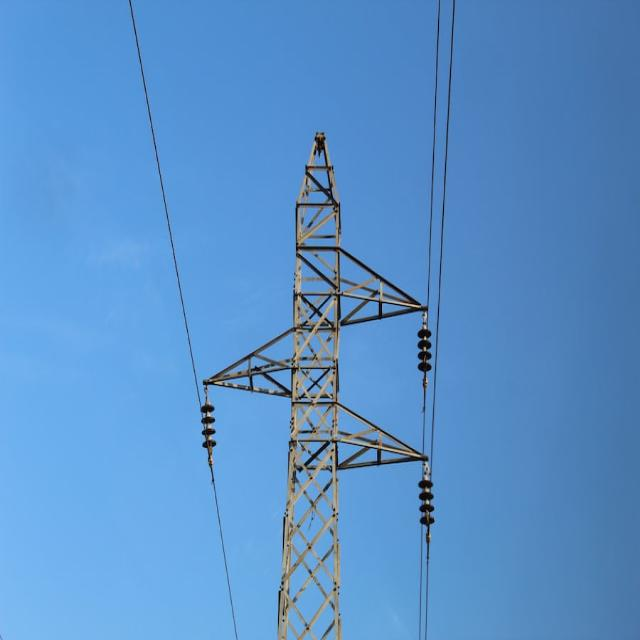transmission tower: (162, 123, 513, 629)
